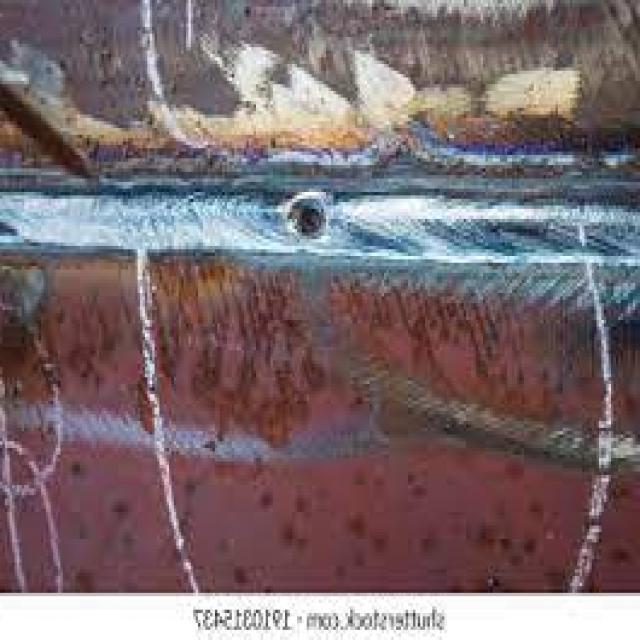Porosity: (283, 186, 333, 252)
